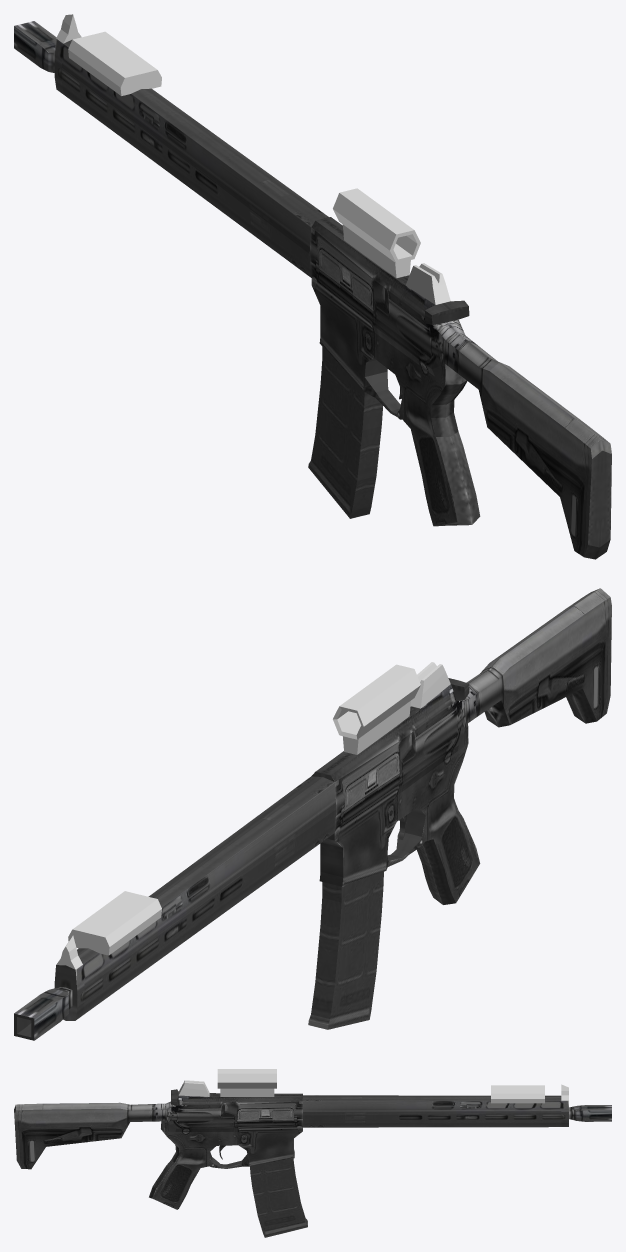
File: ar15fixed.fbx
The picture shows the model from 3 angles, top to bottom: view 1: azimuth 30°, elevation 25°; view 2: azimuth 150°, elevation 25°; view 3: azimuth 270°, elevation 25°; orthographic projection. The views are drawn at different scales.
Parts seen in each view (by area): view 1: AR15, ARmag, HoloSight, Laser, ARrearIronSight, ARchargingHandle; view 2: AR15, ARmag, HoloSight, Laser, ARrearIronSight; view 3: AR15, ARmag, HoloSight, Laser, ARrearIronSight.
Part boxes in pixels (x1=…): AR15: x1=14, y1=21, x2=611, y2=559; ARmag: x1=308, y1=347, x2=382, y2=518; HoloSight: x1=333, y1=188, x2=420, y2=278; Laser: x1=68, y1=31, x2=161, y2=95; ARrearIronSight: x1=405, y1=263, x2=450, y2=304; ARchargingHandle: x1=425, y1=300, x2=469, y2=324; AR15: x1=14, y1=588, x2=611, y2=1040; ARmag: x1=308, y1=872, x2=383, y2=1029; HoloSight: x1=333, y1=664, x2=420, y2=754; Laser: x1=68, y1=891, x2=161, y2=955; ARrearIronSight: x1=410, y1=662, x2=450, y2=708; AR15: x1=14, y1=1093, x2=611, y2=1209; ARmag: x1=250, y1=1158, x2=307, y2=1237; HoloSight: x1=217, y1=1069, x2=276, y2=1096; Laser: x1=491, y1=1085, x2=544, y2=1103; ARrearIronSight: x1=178, y1=1080, x2=209, y2=1096.
Size of the model in its own units: 20.13 by 147 by 486.
